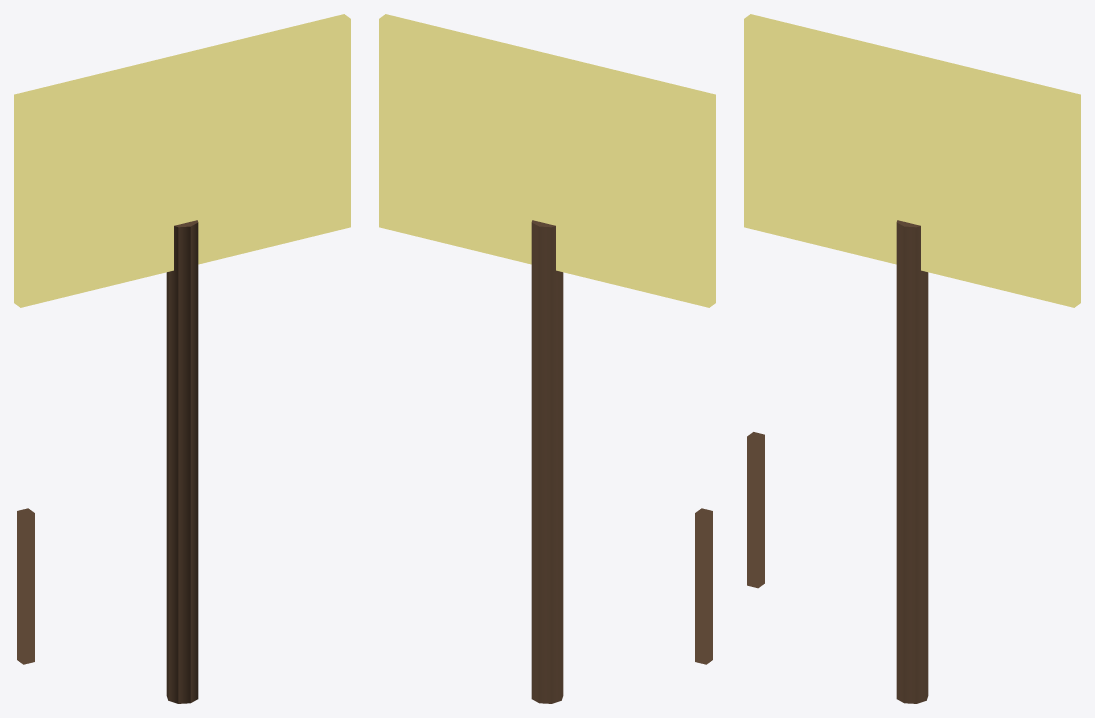
Rendered from garage-land-for-sale-sign.obj.
3 views of the same model, side by side, from view 1: azimuth 30°, elevation 25°; view 2: azimuth 150°, elevation 25°; view 3: azimuth 330°, elevation 25° (orthographic).
Parts seen in each view (by area): view 1: garage-land-for-sale-sign; view 2: garage-land-for-sale-sign; view 3: garage-land-for-sale-sign.
Part boxes in pixels (<box>): garage-land-for-sale-sign: <box>14,14,350,703</box>; garage-land-for-sale-sign: <box>379,14,715,703</box>; garage-land-for-sale-sign: <box>744,14,1080,703</box>.
Size of the model in its own units: 1.16 by 2.15 by 0.1.
